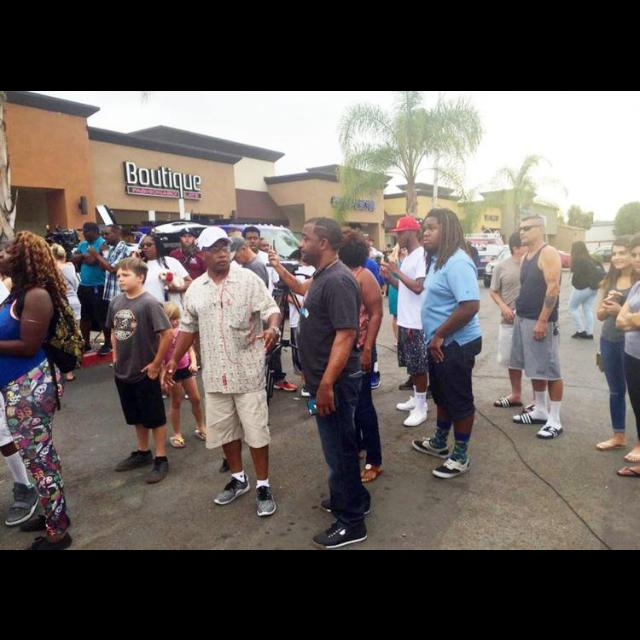head: (0, 230, 50, 278), (296, 216, 344, 264), (422, 208, 462, 250), (198, 228, 232, 272), (114, 256, 150, 292), (610, 234, 638, 272), (330, 231, 362, 263), (518, 215, 546, 245), (228, 234, 252, 266), (396, 222, 422, 250), (508, 231, 534, 257), (140, 233, 163, 261), (336, 222, 358, 248), (162, 301, 182, 329), (242, 226, 262, 252), (48, 244, 68, 266), (102, 223, 122, 245), (298, 246, 316, 266), (179, 227, 197, 247), (83, 222, 101, 242), (396, 238, 412, 255), (571, 240, 587, 256)
person: (156, 220, 284, 522), (265, 222, 387, 488), (406, 205, 490, 483), (103, 252, 179, 486), (503, 210, 569, 442), (374, 214, 436, 434), (212, 233, 274, 435), (129, 232, 199, 404), (485, 228, 547, 418), (322, 216, 388, 394), (150, 296, 212, 450), (226, 222, 282, 386), (83, 222, 143, 371), (278, 244, 328, 400), (34, 240, 86, 386), (163, 224, 214, 364), (68, 220, 116, 358), (564, 238, 610, 344), (386, 234, 418, 348)
